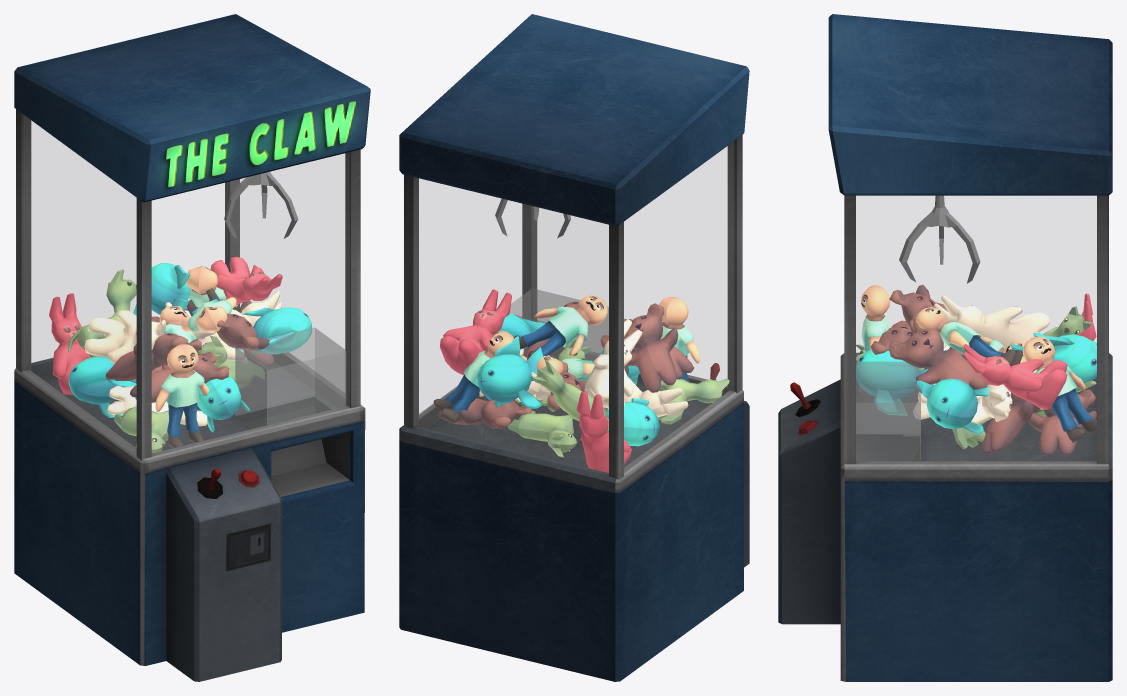
The model's file is claw_cabinet.glb.
The picture shows the model from 3 angles, left to right: view 1: azimuth 30°, elevation 25°; view 2: azimuth 150°, elevation 25°; view 3: azimuth 270°, elevation 25°; orthographic projection. The views are drawn at different scales.
Parts seen in each view (by area): view 1: polySurface65, polySurface24, polySurface113, polySurface42, polySurface80, polySurface94, polySurface89, polySurface95, pCylinder57, polySurface92, polySurface97, polySurface98; view 2: polySurface65, polySurface24, polySurface113, polySurface94, polySurface42, polySurface100, polySurface99, polySurface89, polySurface80, polySurface97, polySurface98; view 3: polySurface65, polySurface24, polySurface113, polySurface42, polySurface95, pCylinder57, polySurface99, polySurface93, polySurface80.
Part boxes in pixels (x1,y1,x2,y2): polySurface65: (14, 14, 370, 681); polySurface24: (24, 116, 349, 455); polySurface113: (68, 256, 311, 453); polySurface42: (235, 327, 345, 428); polySurface80: (155, 344, 208, 448); polySurface94: (49, 293, 99, 395); polySurface89: (68, 356, 136, 417); polySurface95: (197, 375, 249, 432); pCylinder57: (224, 171, 298, 238); polySurface92: (197, 335, 264, 388); polySurface97: (107, 385, 207, 426); polySurface98: (159, 306, 196, 342); polySurface65: (399, 14, 749, 681); polySurface24: (414, 142, 733, 474); polySurface113: (433, 289, 729, 430); polySurface94: (576, 391, 631, 472); polySurface42: (510, 289, 608, 361); polySurface100: (507, 410, 578, 457); polySurface99: (438, 398, 532, 428); polySurface89: (606, 398, 659, 446); polySurface80: (659, 297, 699, 389); polySurface97: (624, 377, 688, 417); polySurface98: (537, 355, 628, 380); polySurface65: (778, 14, 1112, 681); polySurface24: (856, 196, 1096, 462); polySurface113: (856, 285, 1096, 442); polySurface42: (856, 362, 920, 460); polySurface95: (856, 349, 933, 415); pCylinder57: (899, 195, 980, 283); polySurface99: (1028, 389, 1096, 456); polySurface93: (981, 392, 1040, 454); polySurface80: (859, 284, 890, 395).
Bounding box in the file's own units: 1.86 × 4.19 × 2.29.
Materials: 5 (2 with a texture image).
